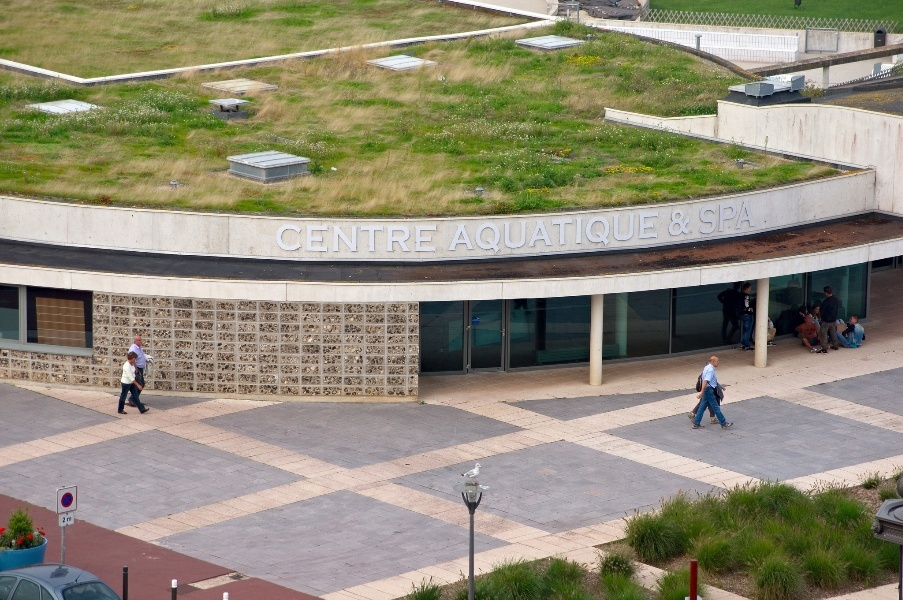text: (465, 210, 480, 256), (481, 210, 496, 256), (497, 210, 512, 256), (513, 210, 528, 256), (529, 210, 544, 256), (545, 210, 560, 256), (561, 210, 576, 256), (577, 210, 592, 256), (593, 210, 608, 256), (609, 210, 624, 256), (625, 210, 640, 256), (641, 210, 656, 256), (705, 199, 720, 236), (721, 199, 736, 236), (737, 199, 752, 236), (673, 206, 688, 237), (454, 210, 464, 256), (289, 224, 304, 254), (305, 224, 320, 254), (321, 224, 336, 254), (337, 224, 352, 254), (353, 224, 368, 254), (369, 224, 384, 254), (385, 224, 400, 254), (401, 224, 416, 254), (417, 224, 432, 254), (275, 224, 288, 254), (698, 199, 704, 236), (433, 224, 439, 254), (753, 199, 757, 236), (657, 210, 660, 256), (65, 516, 73, 524), (689, 206, 691, 237), (671, 206, 672, 237), (62, 516, 64, 524)
